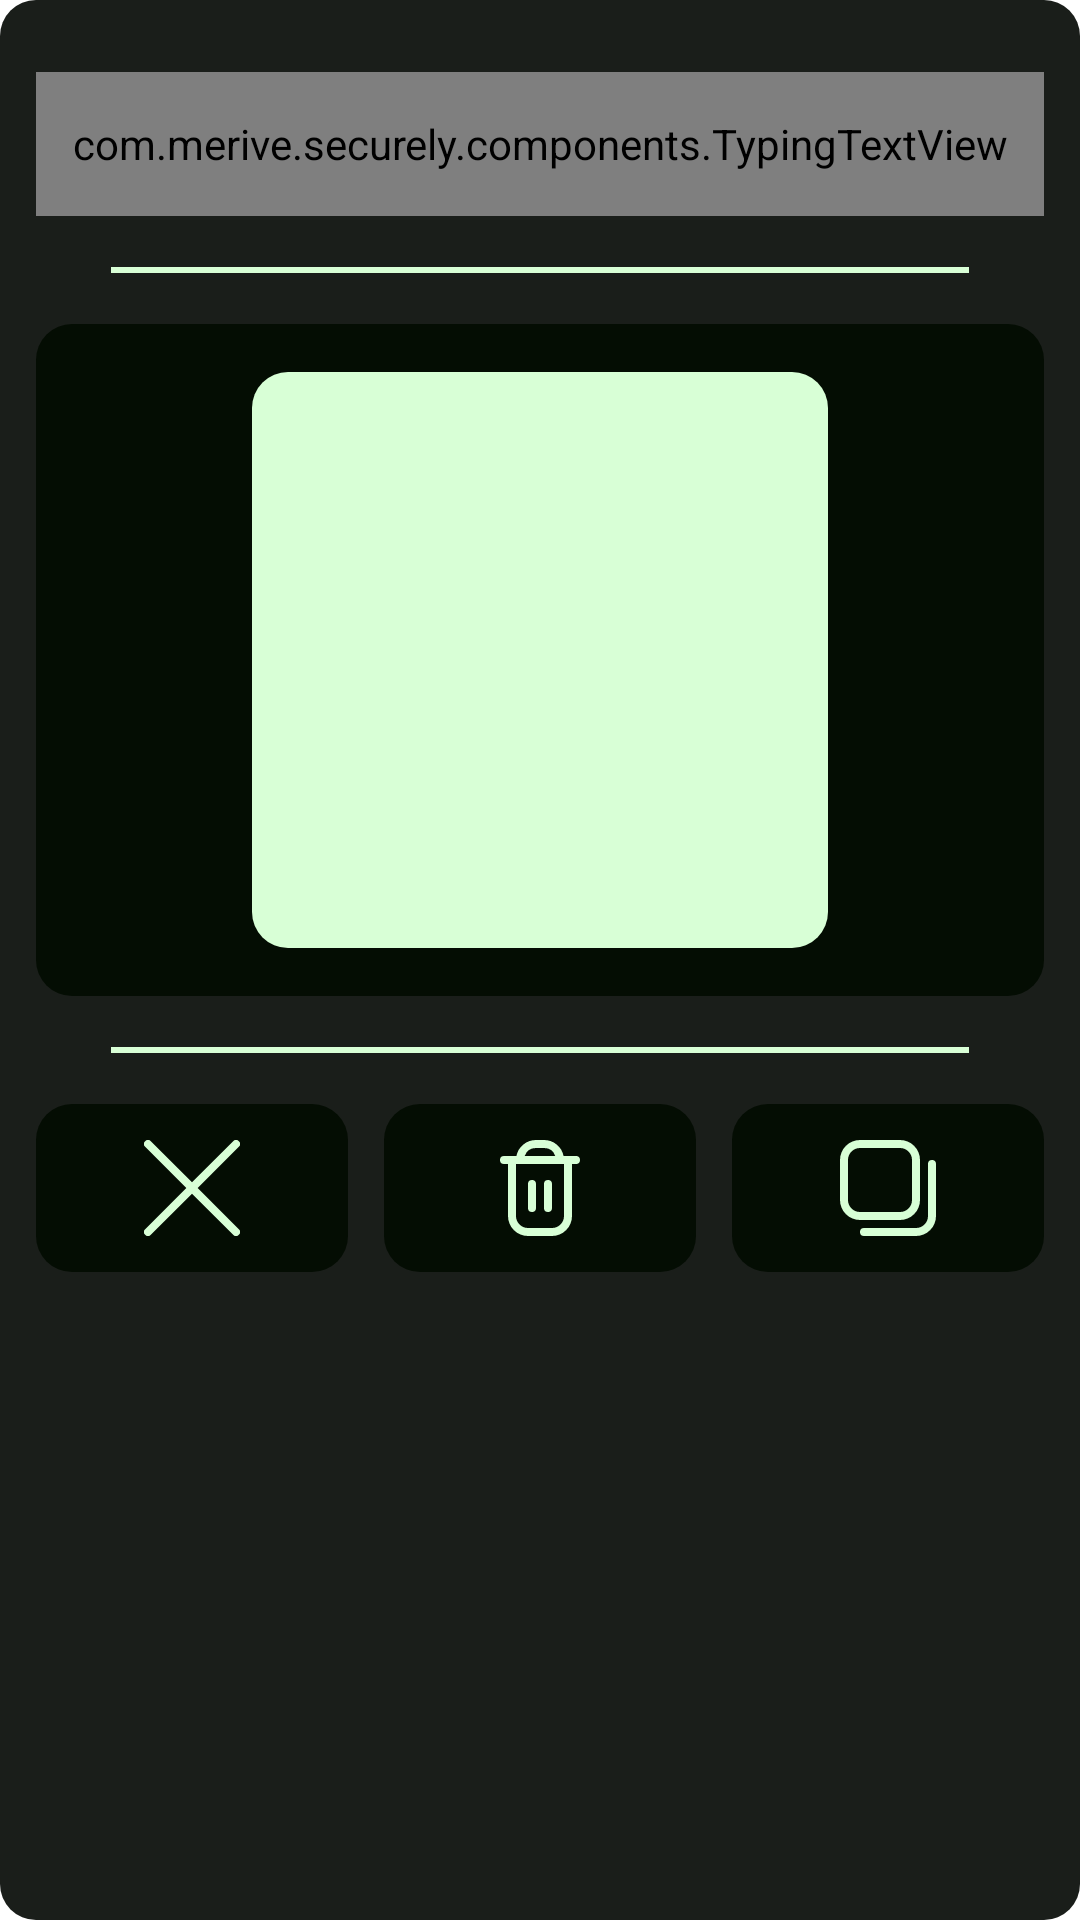

Icon bounding boxes for this 1080×1920 phone screenshot, format (x1, y1, x2, y2):
cancel: (36, 1104, 348, 1272)
delete: (384, 1104, 696, 1272)
